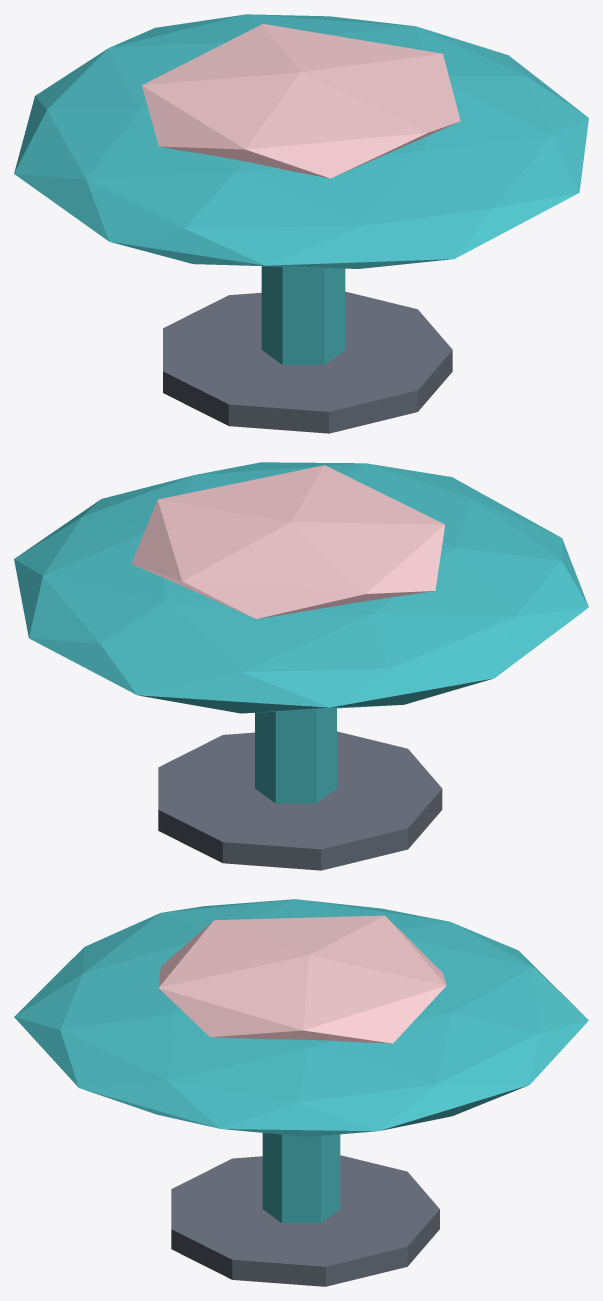
The model's file is coral_table.glb.
3 renders of one model, top to bottom at view 1: azimuth 30°, elevation 25°; view 2: azimuth 150°, elevation 25°; view 3: azimuth 270°, elevation 25°, orthographic. The views are drawn at different scales.
Visible parts, largest first — view 1: coral_table; view 2: coral_table; view 3: coral_table.
Boxes of the visible parts, box(x1,y1,x2,y2) form: coral_table: box(14, 14, 588, 433); coral_table: box(14, 462, 588, 870); coral_table: box(14, 899, 588, 1286).
Bounding box in the file's own units: 0.9529 × 0.547 × 1.04.
